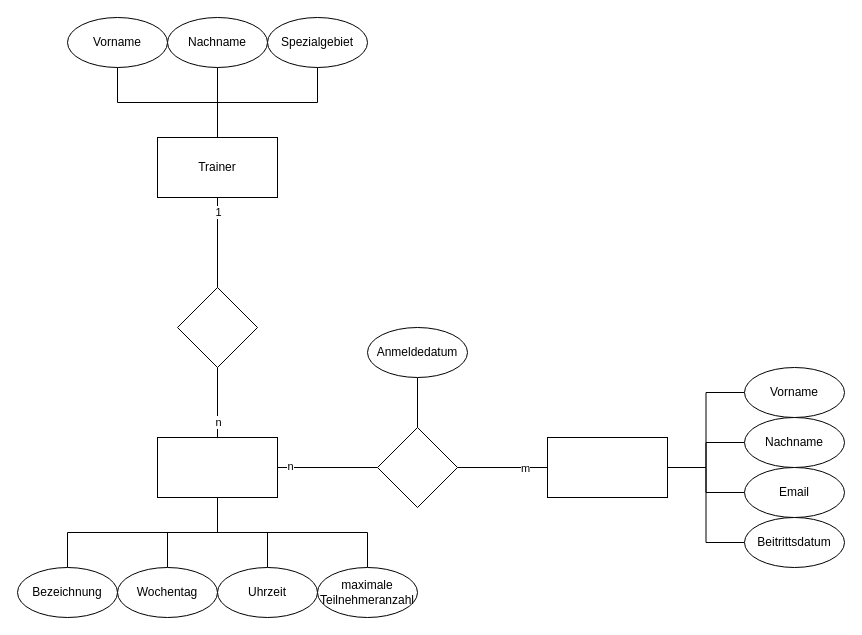
Image size: 862x635. Some labels were removed from this diagram. The shapes that lost their labels are listed below. From the top down, each one's centre as x and y in pixels, then its label:
At pixel 217 327: "leitet".
At pixel 217 467: "Kurs".
At pixel 417 467: "anmelden".
At pixel 607 467: "Mitglied".
